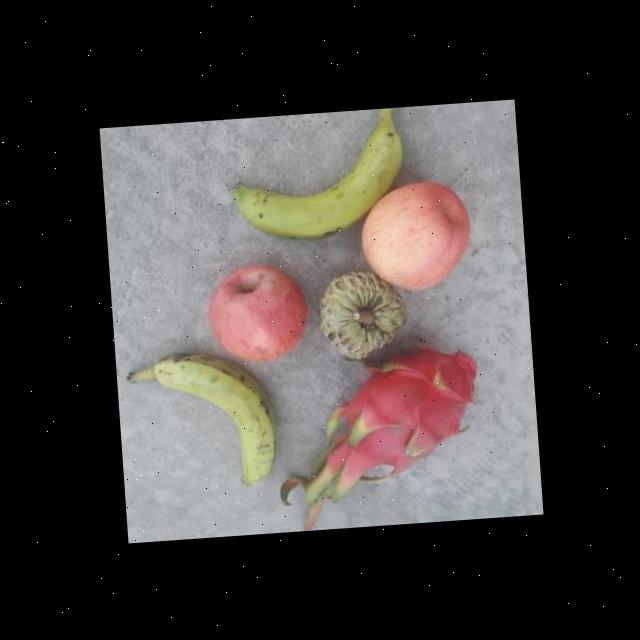Sakya fruit: (312, 264, 413, 362)
apple: (356, 174, 478, 294), (198, 258, 312, 366)
banana: (226, 106, 410, 245), (134, 344, 282, 495)
pitaya: (329, 339, 485, 468)
